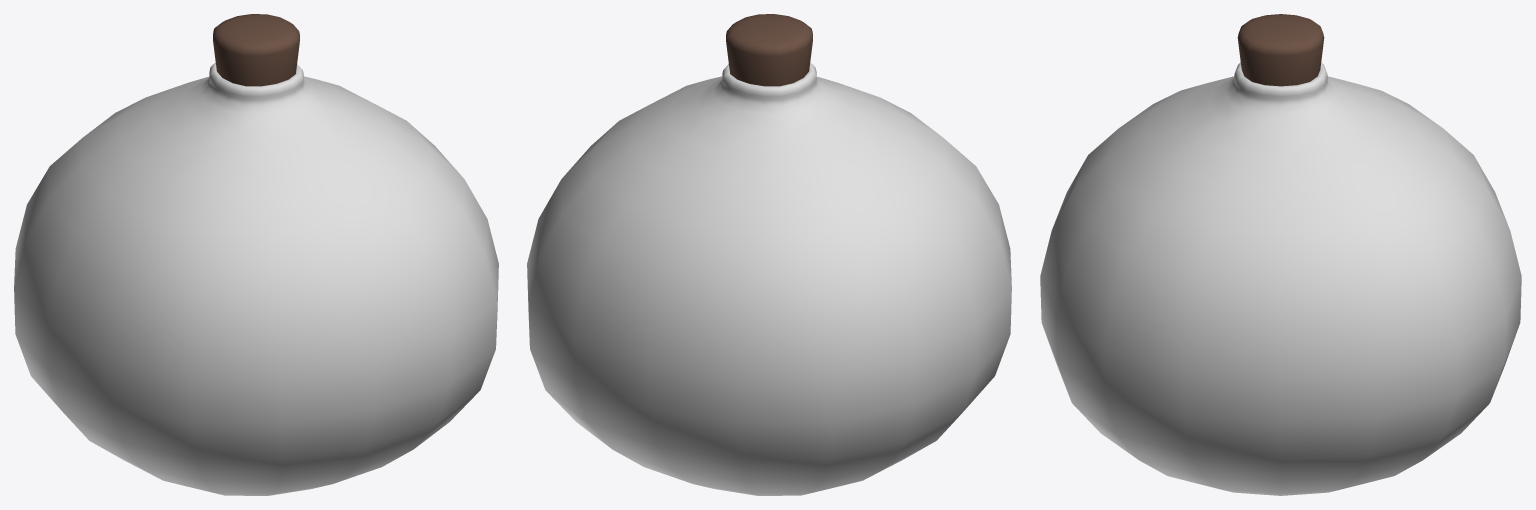
File: SM_Potion9_Filled.fbx
The picture shows the model from 3 angles, left to right: view 1: azimuth 30°, elevation 25°; view 2: azimuth 150°, elevation 25°; view 3: azimuth 270°, elevation 25°; orthographic projection.
Parts seen in each view (by area): view 1: SM_Potion9_Filled; view 2: SM_Potion9_Filled; view 3: SM_Potion9_Filled.
Part boxes in pixels (<box>): SM_Potion9_Filled: <box>14,14,498,495</box>; SM_Potion9_Filled: <box>527,14,1011,495</box>; SM_Potion9_Filled: <box>1040,14,1521,495</box>.
Size of the model in its own units: 126 by 129 by 126.
